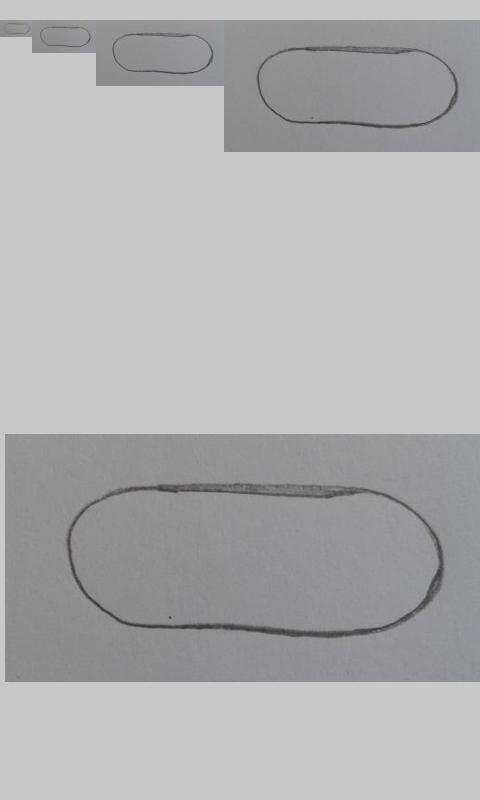chip: (63, 483, 447, 642), (257, 46, 459, 130), (112, 32, 213, 74), (40, 26, 91, 48), (2, 22, 31, 35)
